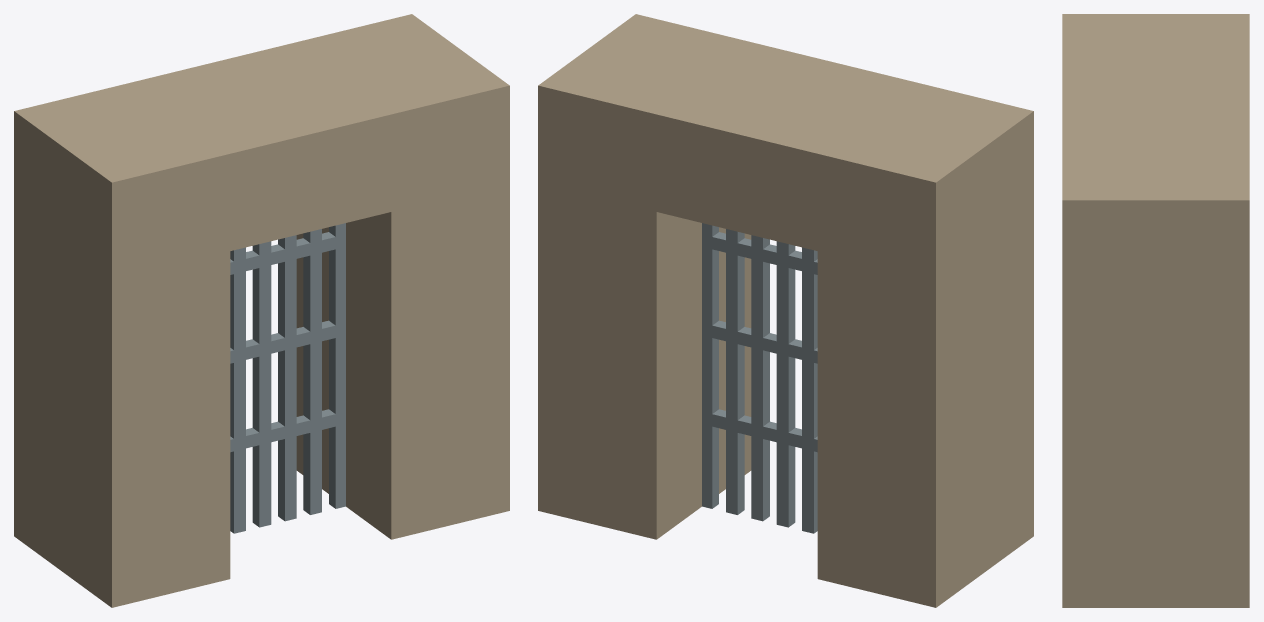
Rendered from b-gate-castilian.glb.
3 views of the same model, side by side, from view 1: azimuth 30°, elevation 25°; view 2: azimuth 150°, elevation 25°; view 3: azimuth 270°, elevation 25° (orthographic). The views are drawn at different scales.
Parts seen in each view (by area): view 1: Structure, gatePanel; view 2: Structure, gatePanel; view 3: Structure.
Boxes of the visible parts, x1,y1,x2,y2 form: Structure: (14,14,509,607); gatePanel: (230,223,345,533); Structure: (538,14,1033,607); gatePanel: (702,223,817,533); Structure: (1062,14,1249,607).
Size of the model in its own units: 4.7 by 4.8 by 2.
